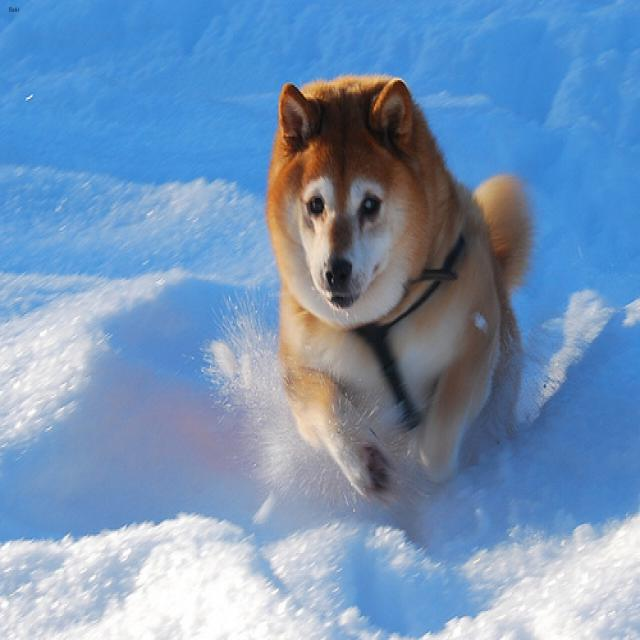dog-shiba_inu: (260, 70, 536, 507)
